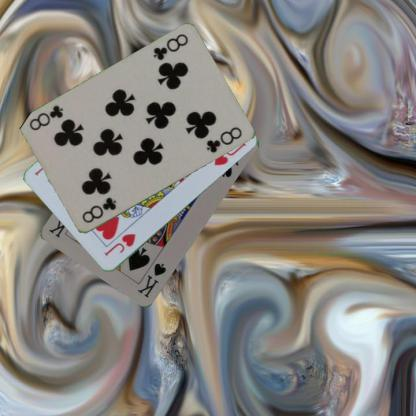8c: (150, 31, 190, 62), (79, 194, 118, 225)
Jh: (101, 231, 137, 258)
Ks: (134, 260, 167, 300)
